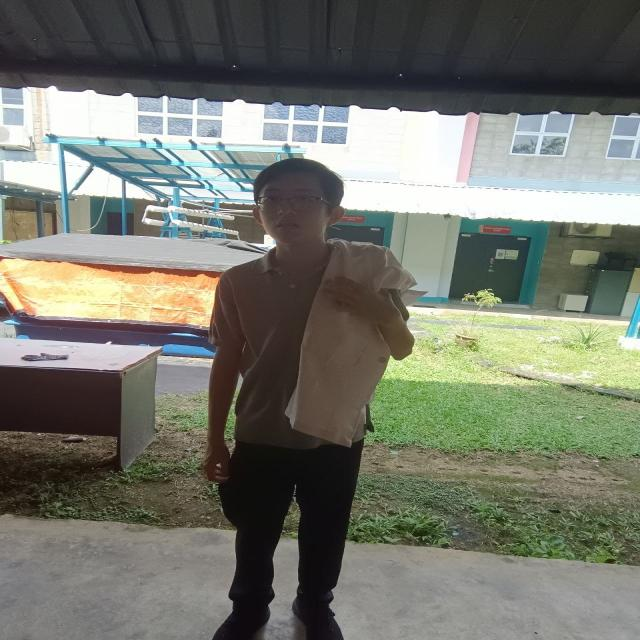person_without_labcoat: (203, 158, 414, 640)
